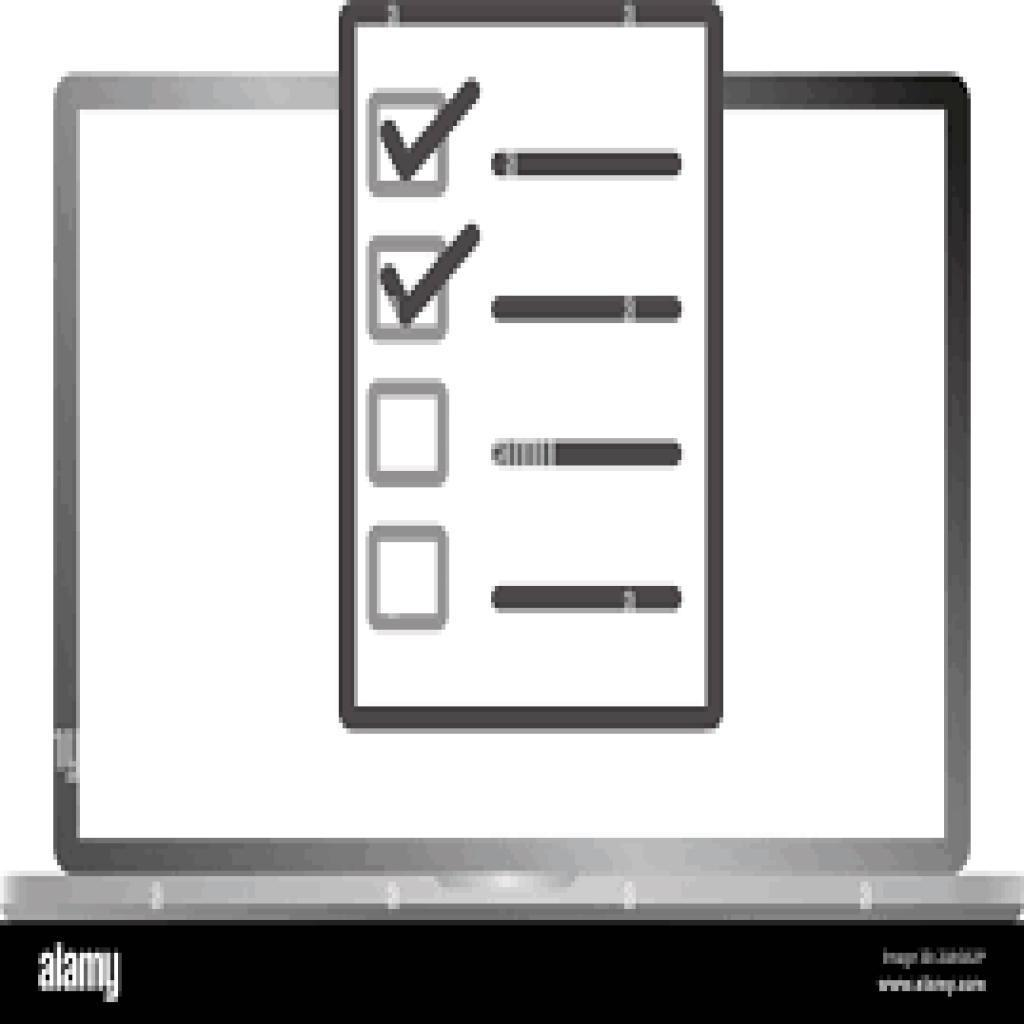checkbox: (366, 91, 451, 197), (369, 236, 451, 343), (369, 383, 452, 487), (369, 527, 451, 630)
